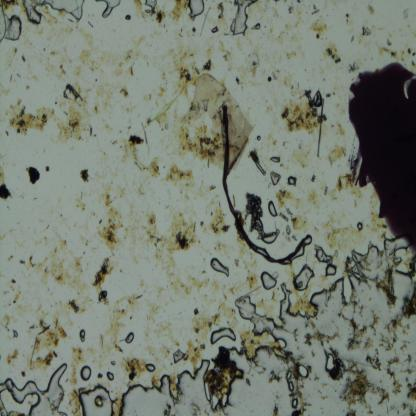Air bubble: (0, 364, 71, 416), (342, 238, 413, 287), (120, 373, 178, 416), (234, 294, 282, 341), (306, 274, 347, 324), (22, 0, 85, 27), (342, 359, 377, 406), (176, 357, 211, 403), (78, 383, 113, 416), (232, 0, 256, 35), (313, 245, 337, 276), (292, 264, 314, 292), (2, 14, 24, 42), (290, 235, 312, 261), (278, 283, 292, 322), (208, 326, 237, 344), (95, 0, 121, 19), (209, 256, 230, 277), (260, 272, 278, 290), (188, 0, 204, 19), (325, 352, 336, 372), (80, 364, 92, 382), (269, 170, 282, 186), (173, 348, 185, 364), (144, 0, 157, 14), (211, 393, 220, 412), (268, 198, 277, 217), (286, 371, 294, 392), (255, 161, 266, 176), (298, 364, 309, 378), (204, 381, 211, 402), (269, 154, 281, 164), (287, 175, 296, 187), (126, 332, 135, 343), (145, 363, 156, 372), (222, 394, 229, 408), (290, 397, 298, 409), (80, 329, 86, 343), (106, 372, 115, 380), (251, 23, 261, 30), (211, 26, 218, 34), (357, 221, 363, 230), (256, 135, 262, 141), (14, 330, 18, 338), (111, 360, 116, 366)
Background material: (178, 74, 250, 173), (143, 211, 199, 273), (56, 83, 100, 144), (106, 292, 143, 353), (203, 345, 245, 397), (24, 317, 65, 370), (4, 98, 54, 139), (99, 191, 131, 252), (36, 258, 91, 293), (190, 302, 237, 342), (165, 162, 215, 197), (322, 212, 366, 250), (238, 330, 290, 362), (104, 44, 150, 78), (143, 87, 180, 129), (344, 310, 380, 351), (108, 131, 146, 168), (282, 102, 321, 133), (209, 206, 232, 256), (41, 6, 72, 40), (243, 191, 266, 236), (170, 27, 195, 68), (329, 172, 363, 202), (345, 254, 374, 288), (74, 47, 104, 77), (288, 378, 311, 416), (272, 347, 304, 374), (170, 61, 195, 95), (89, 83, 118, 112), (142, 299, 162, 340), (120, 356, 147, 386), (87, 332, 110, 367), (302, 328, 342, 348), (91, 258, 116, 290), (67, 346, 86, 386), (378, 265, 396, 307), (145, 345, 173, 372), (274, 187, 306, 210), (241, 257, 260, 295), (243, 50, 262, 88), (386, 355, 404, 395), (40, 233, 69, 257), (127, 212, 140, 265), (154, 66, 170, 108), (37, 47, 60, 76), (367, 189, 382, 232), (328, 347, 346, 382), (58, 296, 93, 314), (292, 141, 314, 169), (210, 280, 242, 299), (383, 314, 410, 336), (278, 23, 300, 49), (142, 154, 163, 181), (227, 60, 248, 86), (185, 340, 204, 368), (284, 76, 306, 100), (4, 288, 25, 313), (185, 275, 210, 295), (327, 143, 347, 168), (401, 285, 416, 318), (0, 166, 13, 204), (162, 321, 180, 348), (286, 208, 308, 230), (74, 25, 94, 48), (170, 0, 190, 22), (364, 347, 382, 371), (308, 188, 324, 215), (218, 40, 234, 67), (377, 332, 398, 352), (310, 18, 328, 41), (0, 0, 9, 44), (68, 388, 82, 416), (403, 375, 416, 404), (305, 89, 323, 109), (26, 165, 42, 186), (153, 6, 167, 30), (377, 385, 391, 408), (323, 41, 339, 60), (190, 401, 210, 416), (247, 360, 267, 375), (157, 285, 170, 308), (350, 296, 364, 317), (377, 46, 398, 60), (170, 276, 186, 294), (136, 178, 150, 198), (75, 190, 86, 214), (6, 46, 17, 70), (96, 289, 110, 307), (57, 58, 68, 80), (112, 396, 124, 416), (151, 368, 163, 388), (0, 313, 13, 331), (400, 402, 416, 416), (7, 347, 19, 365), (80, 167, 92, 185), (294, 0, 302, 27), (0, 0, 18, 12), (100, 119, 114, 134), (248, 149, 262, 164), (35, 303, 50, 317), (135, 0, 145, 20), (269, 370, 283, 384), (81, 233, 94, 248), (199, 60, 214, 73), (337, 307, 350, 321), (400, 365, 416, 376), (217, 1, 226, 20), (348, 58, 360, 72), (118, 85, 129, 100), (0, 84, 14, 95), (269, 6, 280, 20), (170, 375, 178, 394), (270, 68, 282, 80), (335, 103, 347, 115), (358, 38, 371, 49), (336, 121, 346, 135), (284, 50, 298, 60), (164, 401, 173, 416), (360, 26, 372, 37), (344, 406, 357, 416), (268, 135, 279, 146), (403, 352, 413, 364), (400, 339, 410, 351), (345, 12, 353, 26), (287, 5, 296, 16), (273, 402, 280, 416), (139, 280, 147, 292), (268, 23, 275, 36), (366, 5, 375, 15), (330, 86, 339, 96), (29, 258, 36, 270), (278, 338, 287, 347), (124, 12, 132, 22), (403, 8, 409, 21), (313, 373, 320, 384), (367, 404, 374, 415), (385, 398, 389, 416), (7, 254, 16, 262), (389, 404, 397, 412), (0, 233, 7, 241), (126, 125, 133, 133), (386, 38, 392, 47), (410, 60, 416, 69), (281, 140, 287, 149), (310, 348, 315, 358), (353, 198, 358, 208), (245, 378, 251, 386), (320, 394, 328, 400), (410, 30, 416, 38), (15, 72, 22, 78), (87, 22, 94, 28), (378, 26, 385, 32), (407, 47, 412, 55), (8, 73, 13, 81), (25, 84, 30, 92), (98, 372, 104, 378), (308, 364, 312, 373), (348, 28, 354, 34), (398, 56, 404, 62), (21, 371, 27, 377), (312, 4, 318, 10), (321, 382, 328, 387), (400, 49, 405, 56), (351, 35, 355, 43), (320, 66, 324, 74), (405, 24, 411, 29), (275, 394, 280, 400), (318, 388, 323, 394), (224, 31, 229, 36), (412, 52, 416, 58), (330, 124, 334, 130), (274, 0, 280, 4), (322, 77, 326, 82), (119, 268, 122, 274), (388, 34, 392, 38), (370, 56, 373, 61), (397, 410, 400, 415), (352, 76, 355, 80), (364, 58, 367, 62), (399, 29, 402, 32), (401, 34, 403, 37)
Cotton: (220, 103, 306, 264)
Diatom: (279, 212, 290, 222), (310, 8, 321, 16), (312, 107, 318, 118), (194, 67, 200, 75), (20, 54, 26, 62), (194, 307, 199, 316), (335, 57, 341, 64), (191, 26, 197, 33), (311, 174, 316, 182), (324, 186, 328, 196), (44, 166, 50, 172), (200, 343, 205, 350), (194, 328, 199, 335), (410, 272, 416, 277), (382, 224, 387, 230), (20, 259, 26, 264), (207, 158, 210, 168), (317, 116, 321, 123), (323, 114, 327, 121), (326, 93, 331, 98), (12, 278, 16, 284), (268, 76, 272, 82), (281, 114, 285, 119)
Pen: (349, 61, 416, 257), (262, 228, 280, 244)
